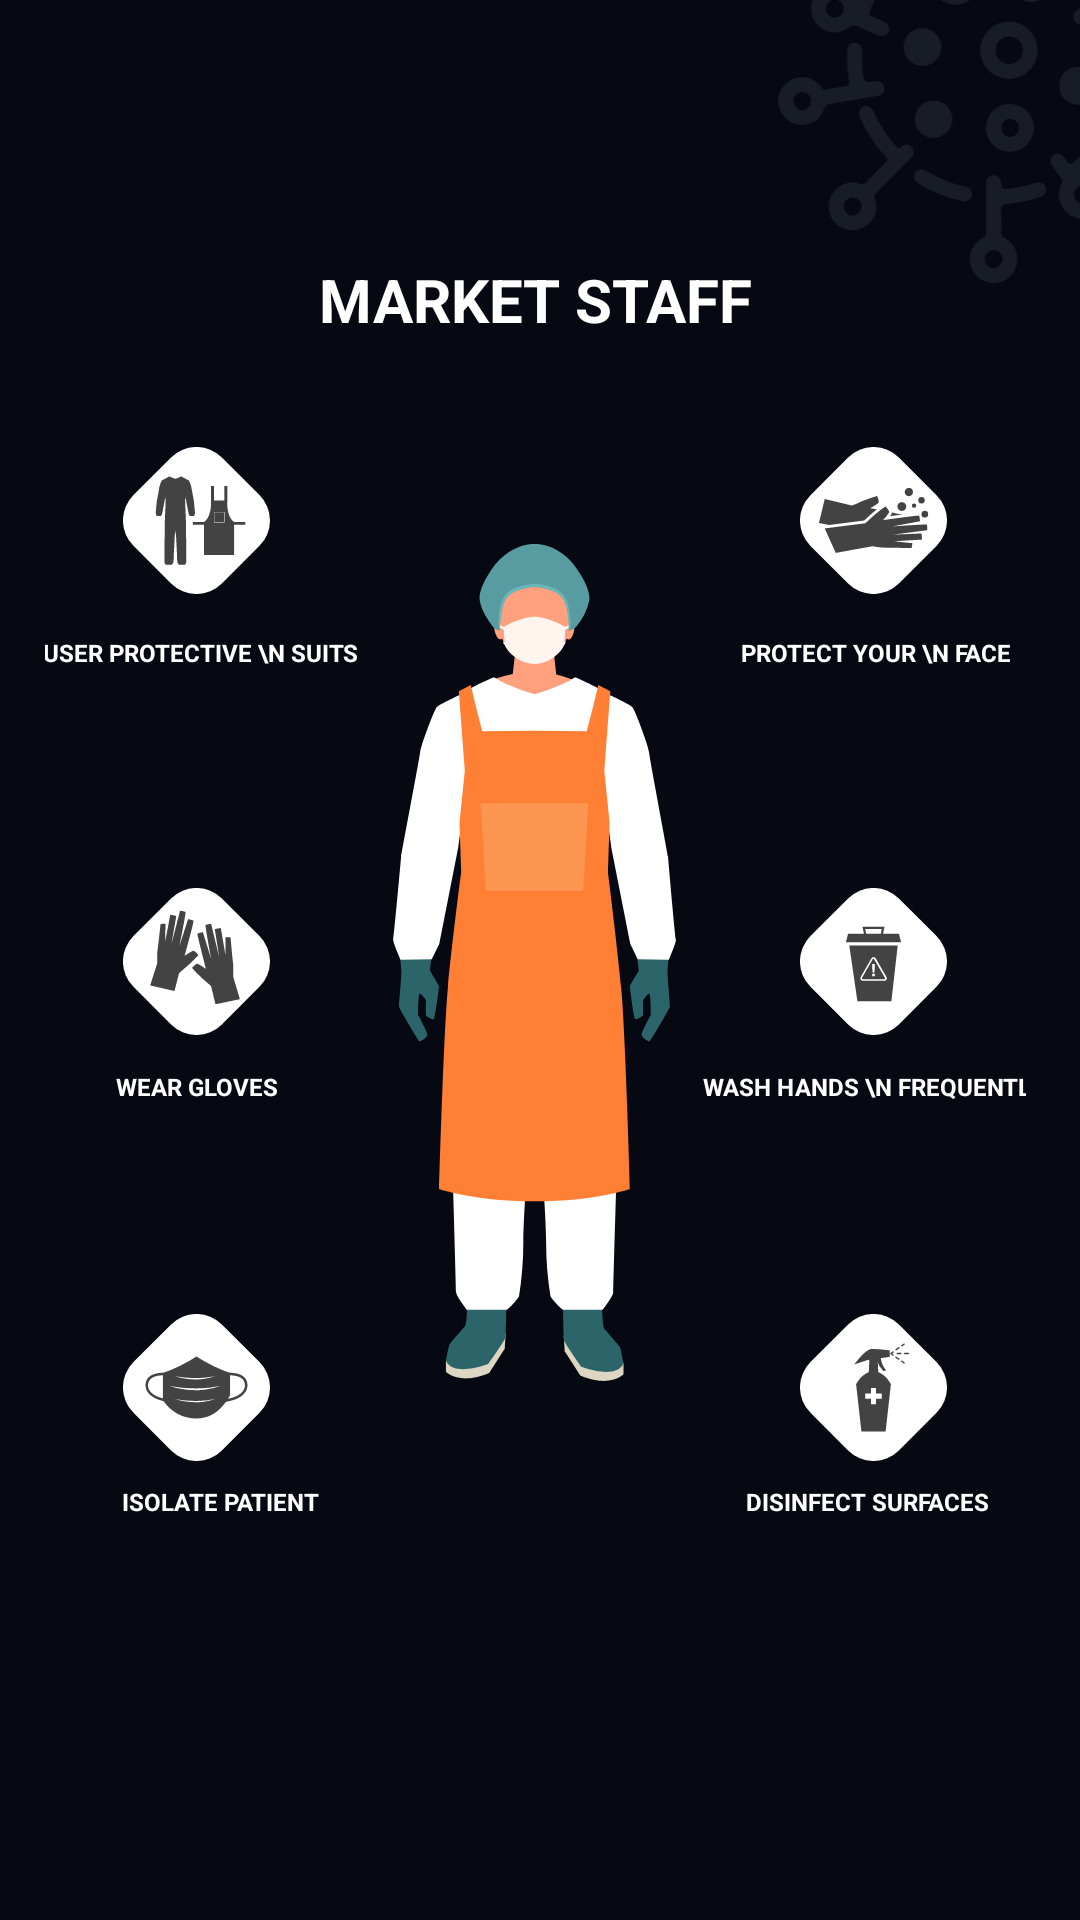

Point at icon controls on the screen. Image size 1080x1920, points as point (x, y).
avoid contact with waste: point (873, 961)
wear protective suits: point (196, 520)
